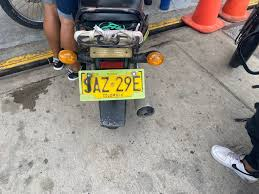placa_moto: (79, 68, 146, 102)
